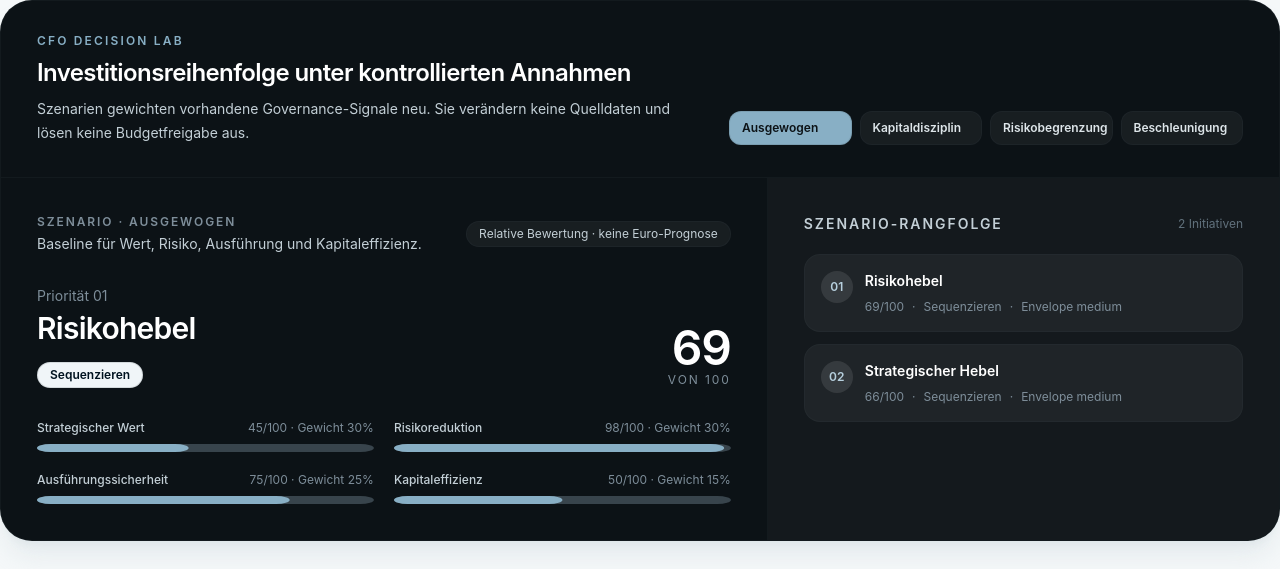
Scenario: CfoInvestmentScenarioExplorer › switches the visible decision lens without mutating the baseline
This screenshot has width=1280, height=569.
Click the button "Risikobegrenzung". click: point(1051, 128)
box: [990,111,1112,145]
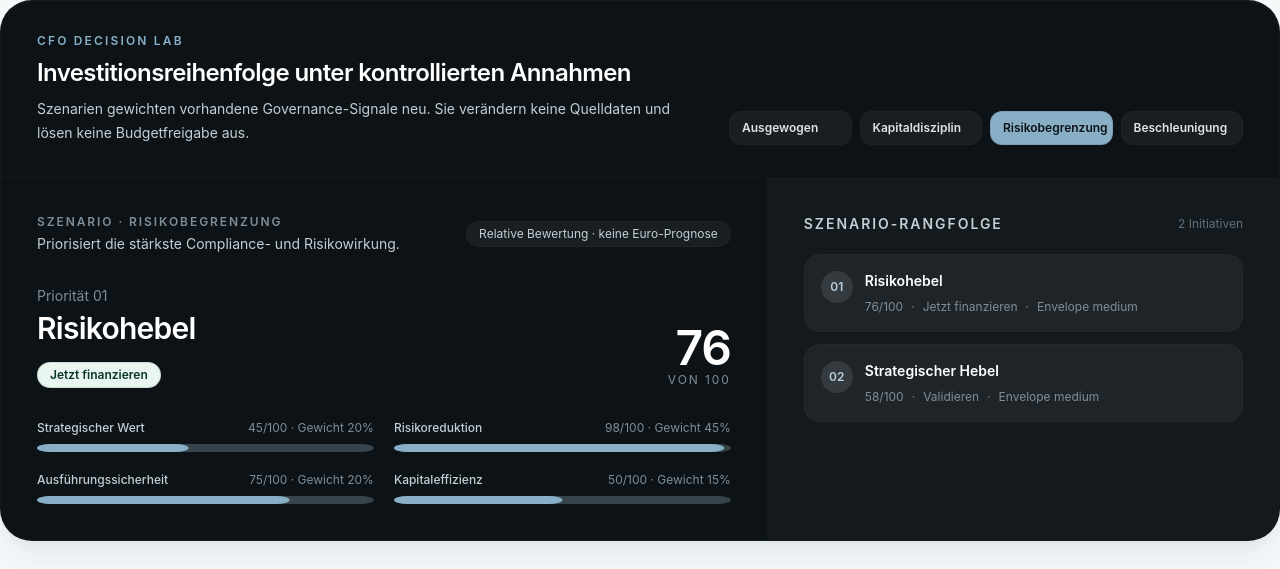
Expected: the heading "Risikohebel" is shown, [37,310,196,346]
Result: the text "Priorisiert die stärkste Compliance- und Risikowirkung." is shown at [37,234,400,254]
